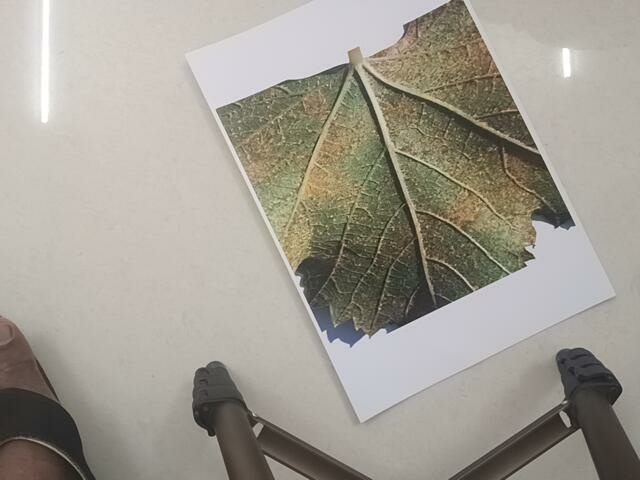Grape_Rust_Fungus: (210, 1, 596, 334)
